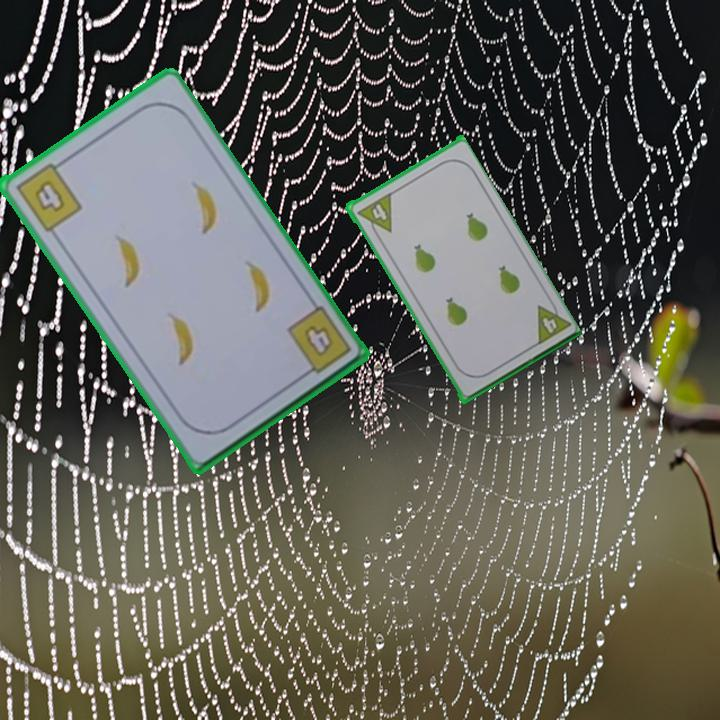4b: (11, 156, 85, 235), (299, 321, 336, 361)
4p: (531, 295, 572, 348), (353, 190, 395, 241)
